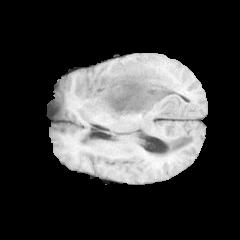glioma: (86, 57, 181, 117)
